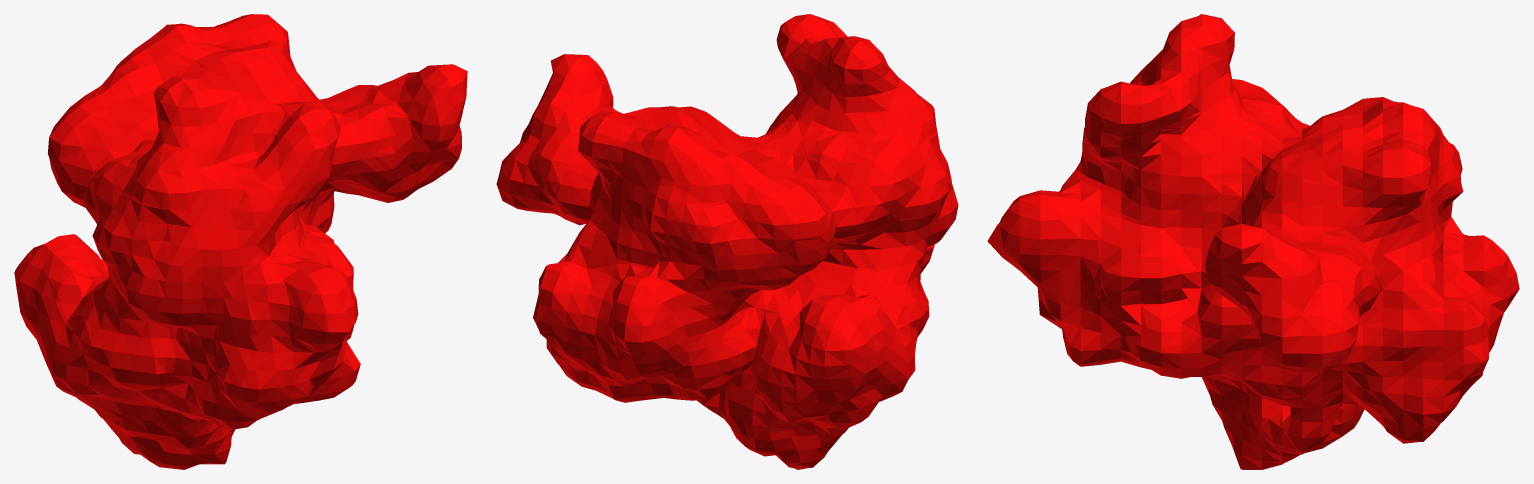
Rendered from ydbK_coarse.dae.
The picture shows the model from 3 angles, left to right: view 1: azimuth 30°, elevation 25°; view 2: azimuth 150°, elevation 25°; view 3: azimuth 270°, elevation 25°; orthographic projection. The views are drawn at different scales.
Visible parts, largest first — view 1: ydbK; view 2: ydbK; view 3: ydbK.
Part boxes in pixels (x1,y1,x2,y2): ydbK: (14,14,467,469); ydbK: (496,14,958,469); ydbK: (987,14,1519,469).
Bounding box in the file's own units: 97.61 × 96.47 × 107.
